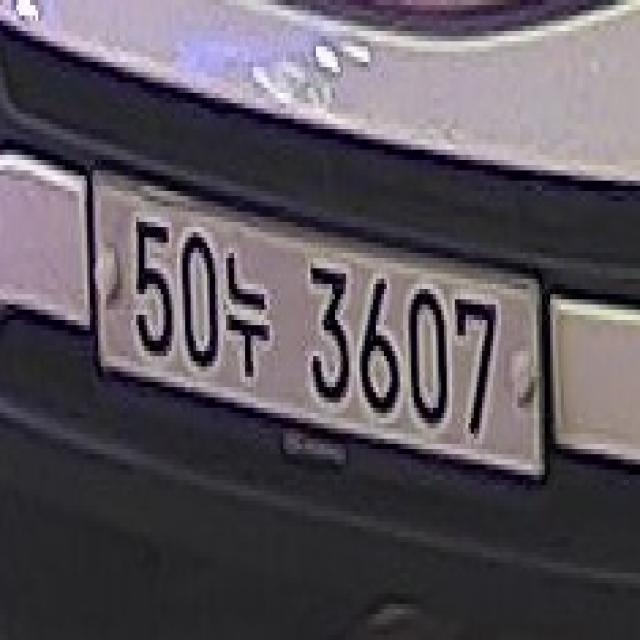0: (407, 282, 449, 432), (181, 226, 220, 374)
3: (303, 260, 352, 413)
5: (125, 206, 176, 364)
6: (356, 274, 403, 424)
7: (454, 291, 500, 440)
license_plate: (84, 155, 552, 490)
nu: (224, 252, 270, 386)
